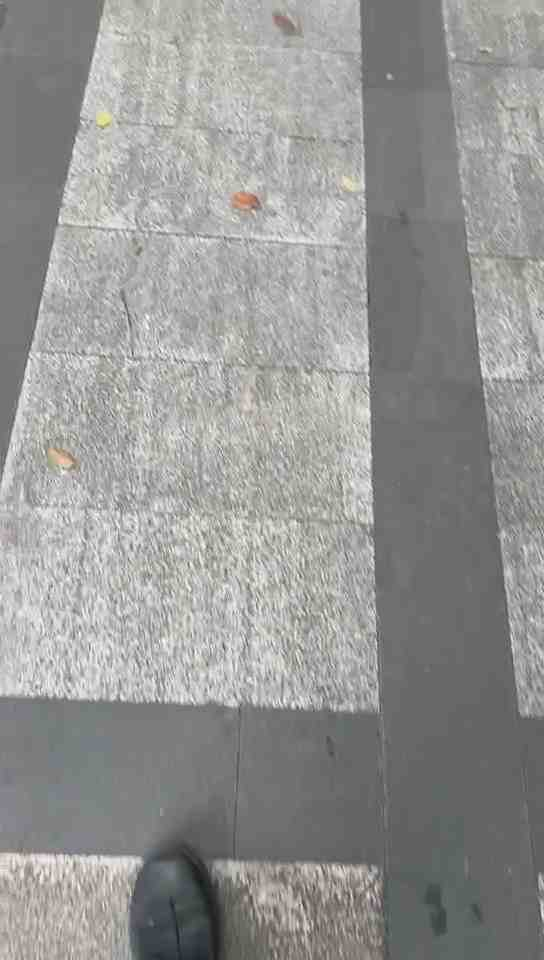leaf: (42, 443, 78, 475), (225, 187, 264, 216), (268, 10, 300, 40), (91, 106, 118, 127)
